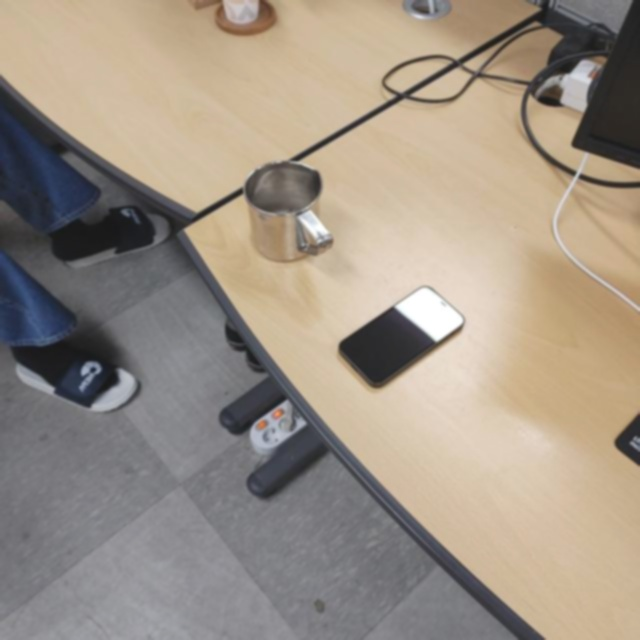cup: (243, 158, 337, 265)
phone: (335, 282, 466, 391)
